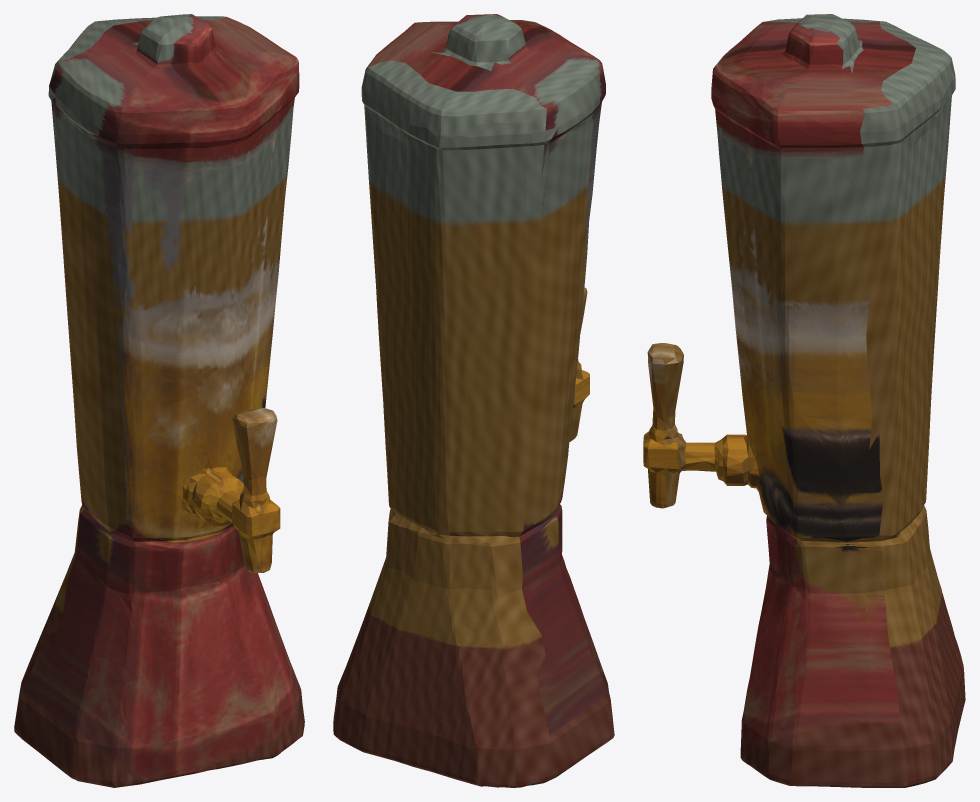
The model's file is beer_tower_reduced.glb.
3 views of the same model, side by side, from view 1: azimuth 30°, elevation 25°; view 2: azimuth 150°, elevation 25°; view 3: azimuth 270°, elevation 25° (orthographic). The views are drawn at different scales.
Parts seen in each view (by area): view 1: CoveredSurface; view 2: CoveredSurface; view 3: CoveredSurface.
Part boxes in pixels (x1=…): CoveredSurface: x1=14, y1=14, x2=304, y2=787; CoveredSurface: x1=333, y1=14, x2=614, y2=787; CoveredSurface: x1=643, y1=14, x2=965, y2=787.
Bounding box in the file's own units: 0.6745 × 1.99 × 0.8158.
Materials: 1 (1 with a texture image).
